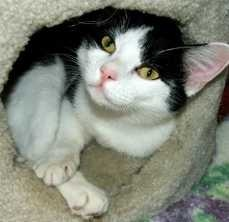Cat: (8, 8, 192, 216)
